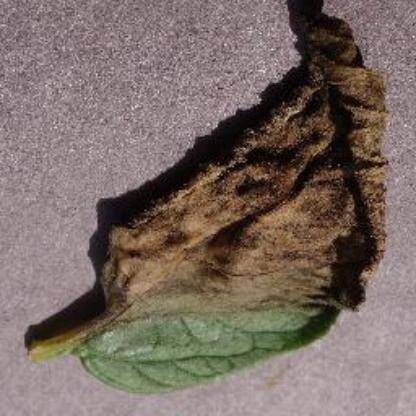Late-Blight: (25, 14, 399, 398)
